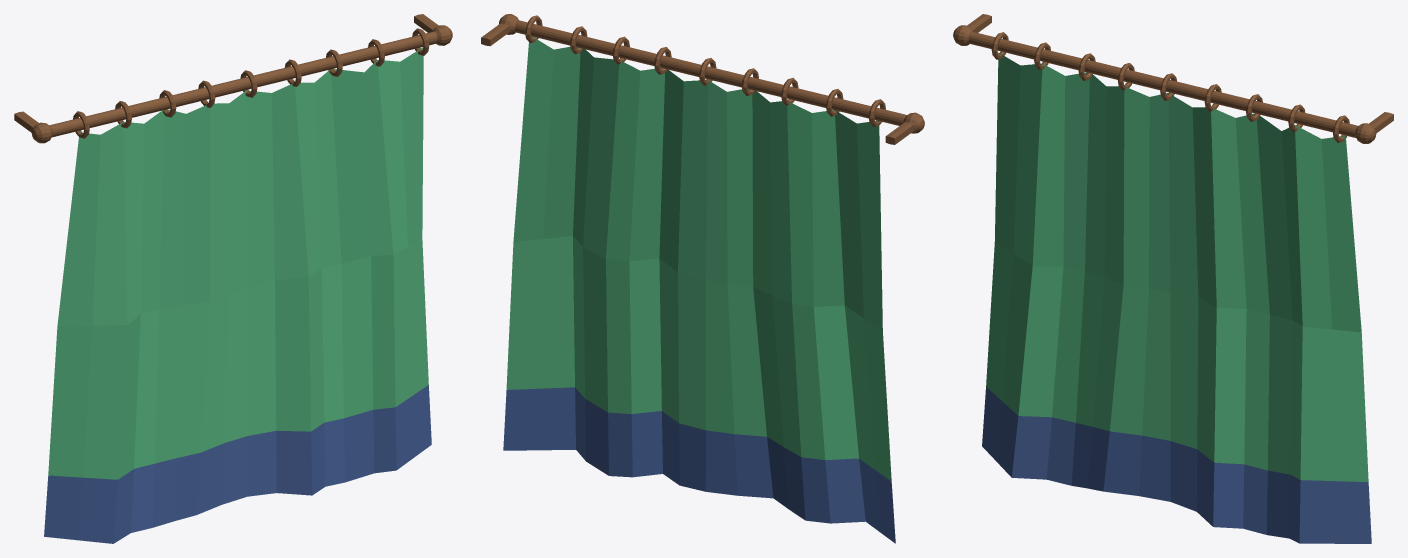
File: Cocina Cortina.fbx
3 views of the same model, side by side, from view 1: azimuth 30°, elevation 25°; view 2: azimuth 150°, elevation 25°; view 3: azimuth 330°, elevation 25° (orthographic).
Parts seen in each view (by area): view 1: Cortina pieza chico.001; view 2: Cortina pieza chico.001; view 3: Cortina pieza chico.001.
Part boxes in pixels (left/top/right/bottom): Cortina pieza chico.001: left=14, top=14, right=452, bottom=543; Cortina pieza chico.001: left=481, top=14, right=924, bottom=543; Cortina pieza chico.001: left=953, top=14, right=1393, bottom=543.
Bounding box in the file's own units: 135 × 135 × 19.75.
